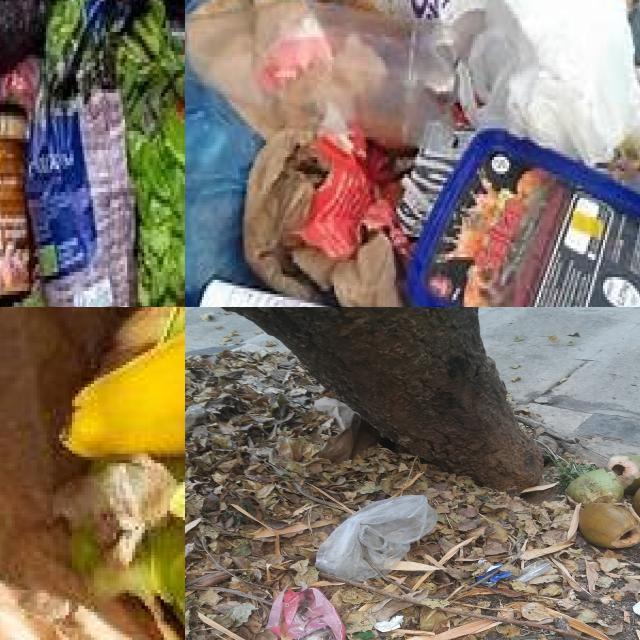Garbage: (185, 0, 640, 307), (185, 346, 640, 640), (62, 307, 185, 640)
Plastic_Bag: (185, 57, 264, 307), (315, 495, 439, 581), (266, 588, 345, 640), (518, 559, 556, 583), (185, 404, 206, 432), (306, 605, 308, 607)
Plastic_Container: (406, 125, 640, 307), (27, 91, 134, 307), (0, 103, 31, 300)
Plastic_bottle: (185, 0, 462, 155)
Plastic_wraper: (298, 130, 401, 262), (40, 0, 140, 104), (475, 564, 511, 586)
